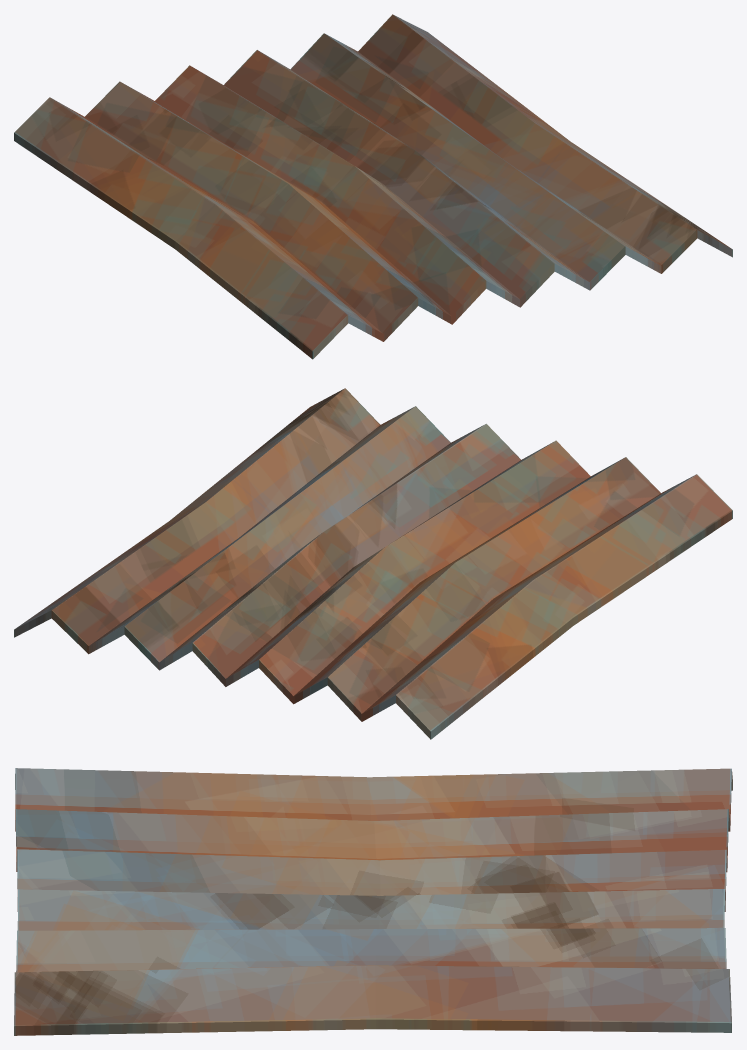
File: Tole.fbx
3 renders of one model, top to bottom at view 1: azimuth 30°, elevation 25°; view 2: azimuth 150°, elevation 25°; view 3: azimuth 270°, elevation 25°, orthographic. The views are drawn at different scales.
Parts seen in each view (by area): view 1: Tole; view 2: Tole; view 3: Tole.
Boxes of the visible parts, x1,y1,x2,y2 form: Tole: [14, 14, 732, 359]; Tole: [14, 388, 732, 739]; Tole: [14, 768, 732, 1035].
Bounding box in the file's own units: 463 × 38.76 × 573.
